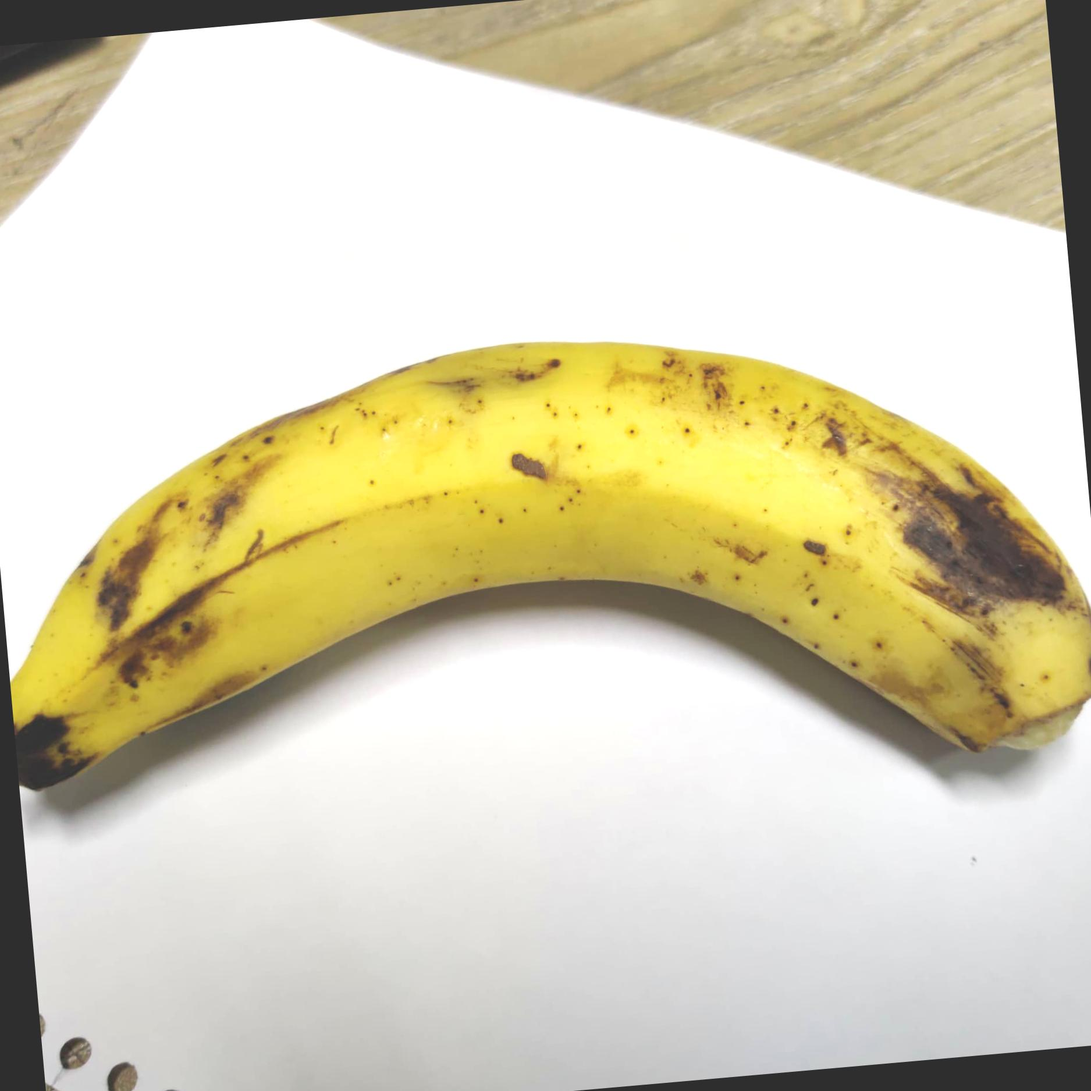Banana Ripe: (0, 291, 1091, 1091)
